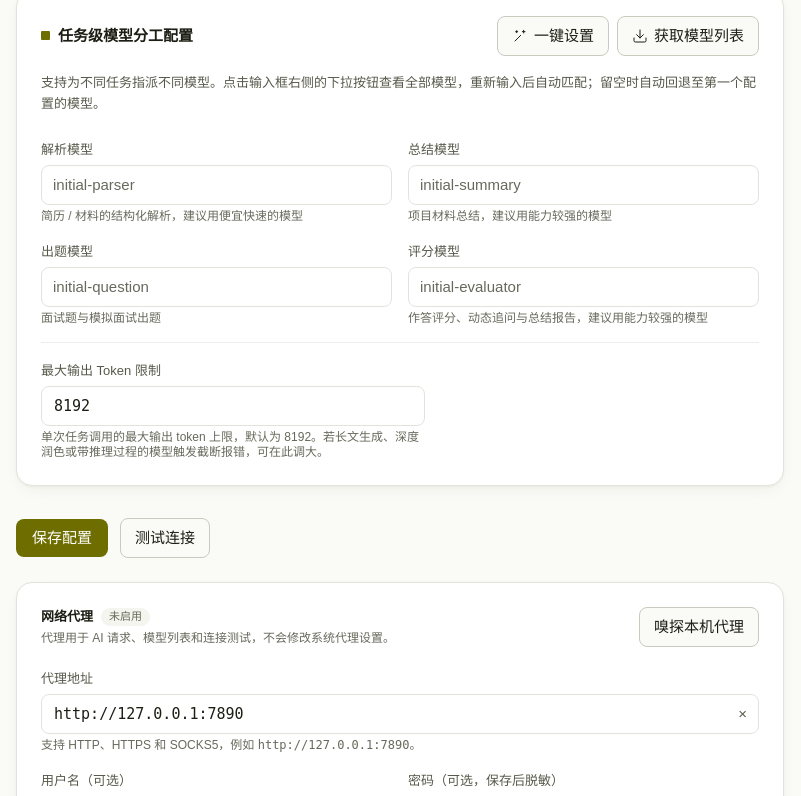
Test: 设置页配置与连接行为 › 支持在任务级模型分工配置中修改最大输出 token 限制并保存
(page scrolled)
Check: the button "保存配置" is shown, box x1=16 y1=519 x2=108 y2=557
Type "16384" into the number field labelled "最大输出 Token 限制" at (233, 406), box x1=41 y1=386 x2=425 y2=426
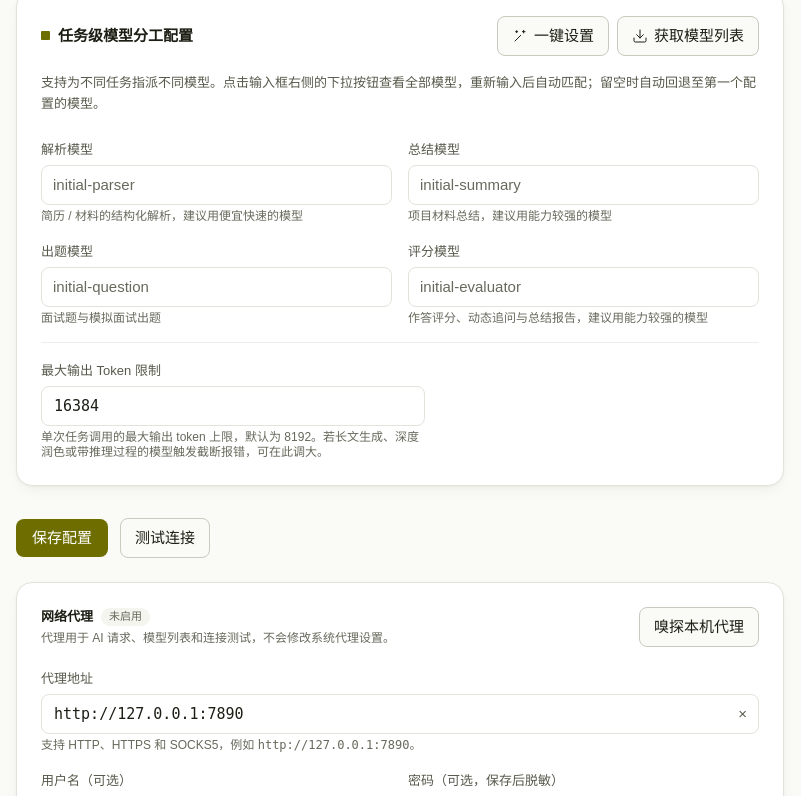
Click the button "保存配置" at (62, 538), box x1=16 y1=519 x2=108 y2=557
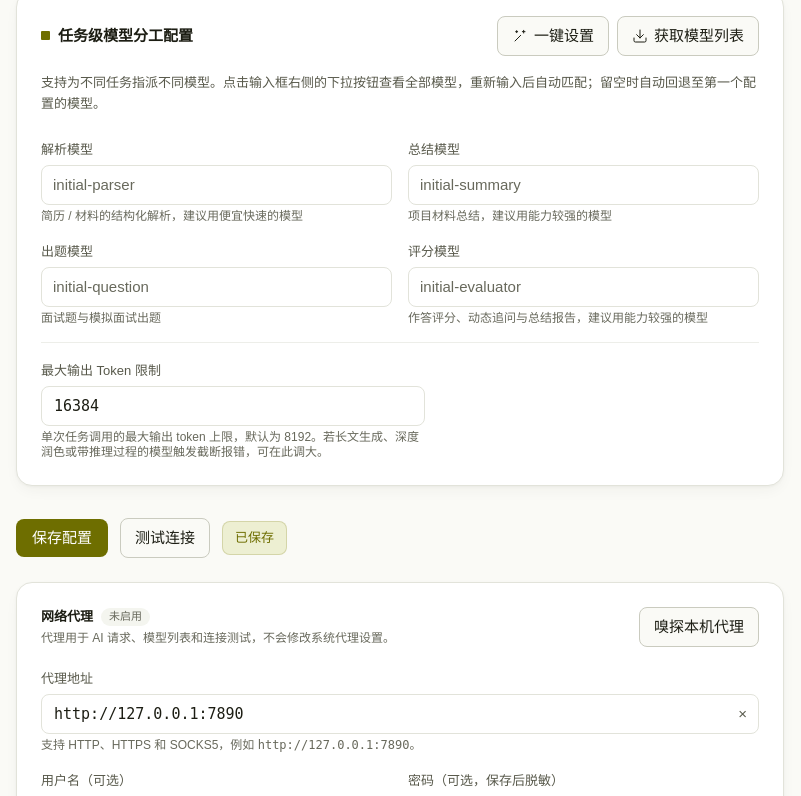
Check: the text "已保存" is shown, box x1=222 y1=521 x2=287 y2=555
